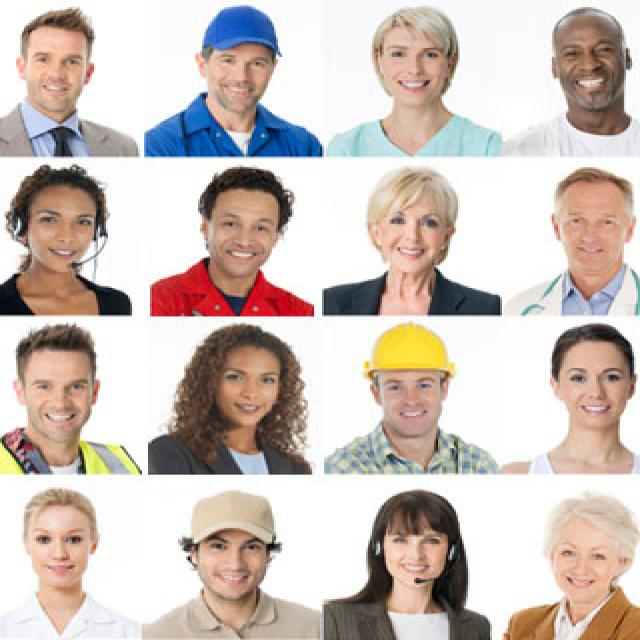adult: (144, 492, 328, 640), (143, 8, 324, 158), (325, 485, 498, 640), (323, 319, 497, 473), (321, 166, 502, 314), (326, 5, 501, 156), (146, 323, 314, 474), (148, 168, 312, 316), (0, 485, 146, 640), (0, 160, 142, 316), (0, 322, 142, 474), (0, 8, 140, 156), (499, 323, 638, 472), (498, 491, 637, 640), (503, 167, 638, 319), (509, 4, 639, 157)
